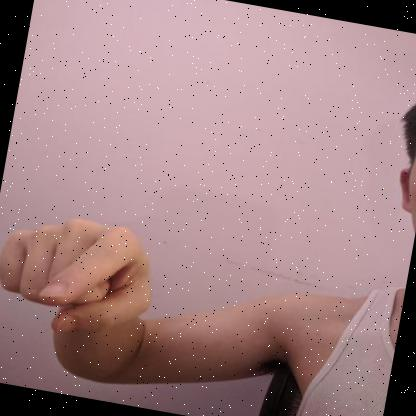Z: (0, 218, 150, 350)
